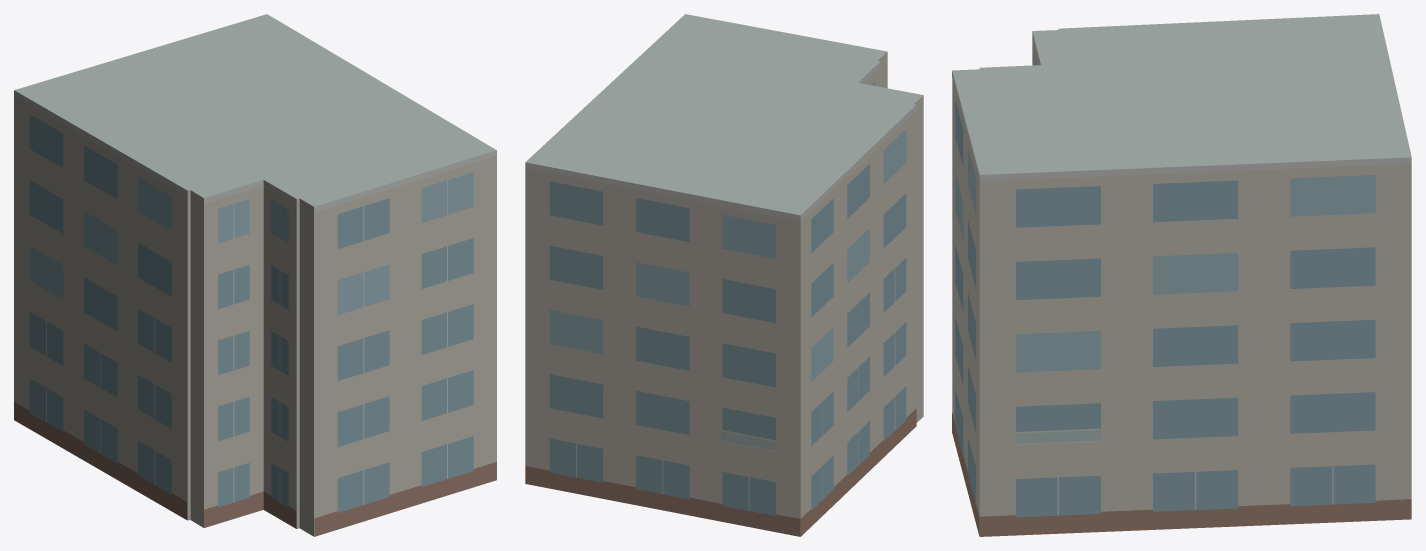
Rendered from survey-upis-32969906.glb.
The picture shows the model from 3 angles, left to right: view 1: azimuth 30°, elevation 25°; view 2: azimuth 150°, elevation 25°; view 3: azimuth 270°, elevation 25°; orthographic projection. The views are drawn at different scales.
Visible parts, largest first — view 1: survey-upis-32969906.tmp; view 2: survey-upis-32969906.tmp; view 3: survey-upis-32969906.tmp.
Boxes of the visible parts, bbox=[...] form: survey-upis-32969906.tmp: bbox=[14, 14, 496, 536]; survey-upis-32969906.tmp: bbox=[525, 14, 923, 536]; survey-upis-32969906.tmp: bbox=[952, 14, 1411, 536].
Bounding box in the file's own units: 13.17 × 13.8 × 15.89.
